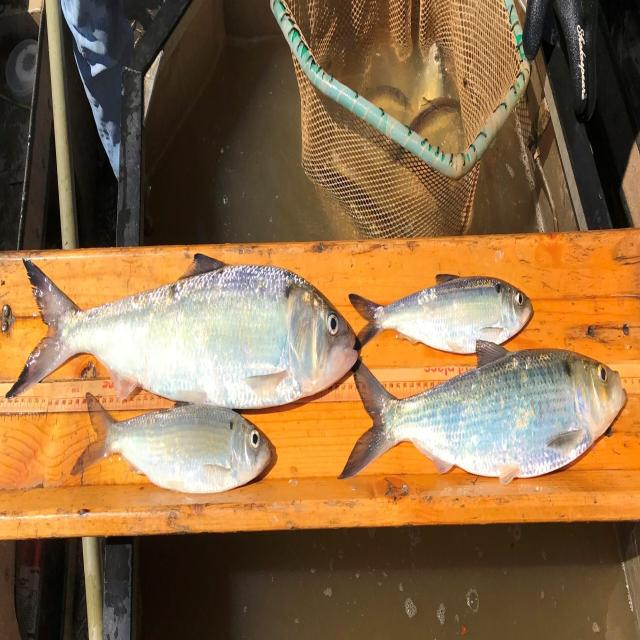Shad - American: (6, 254, 359, 408), (339, 341, 626, 484), (71, 392, 275, 493), (349, 275, 533, 354)
